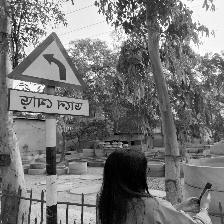Right-turn: (7, 32, 90, 118)
